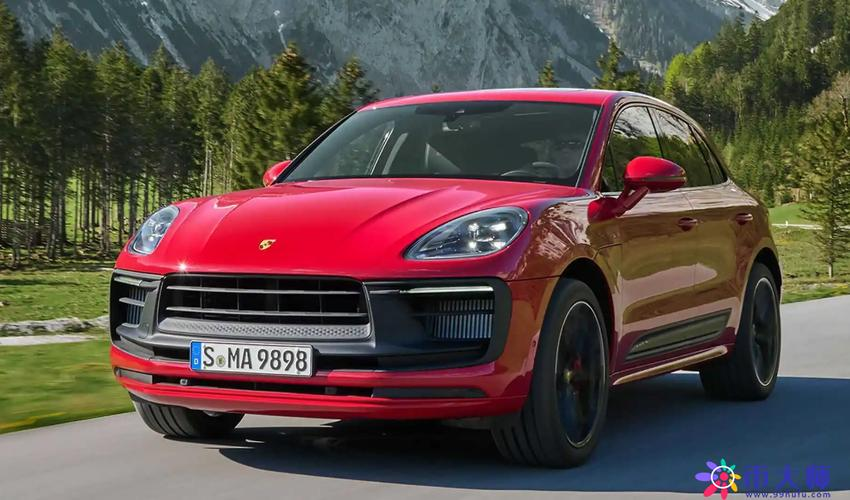汽车: (82, 81, 792, 474)
